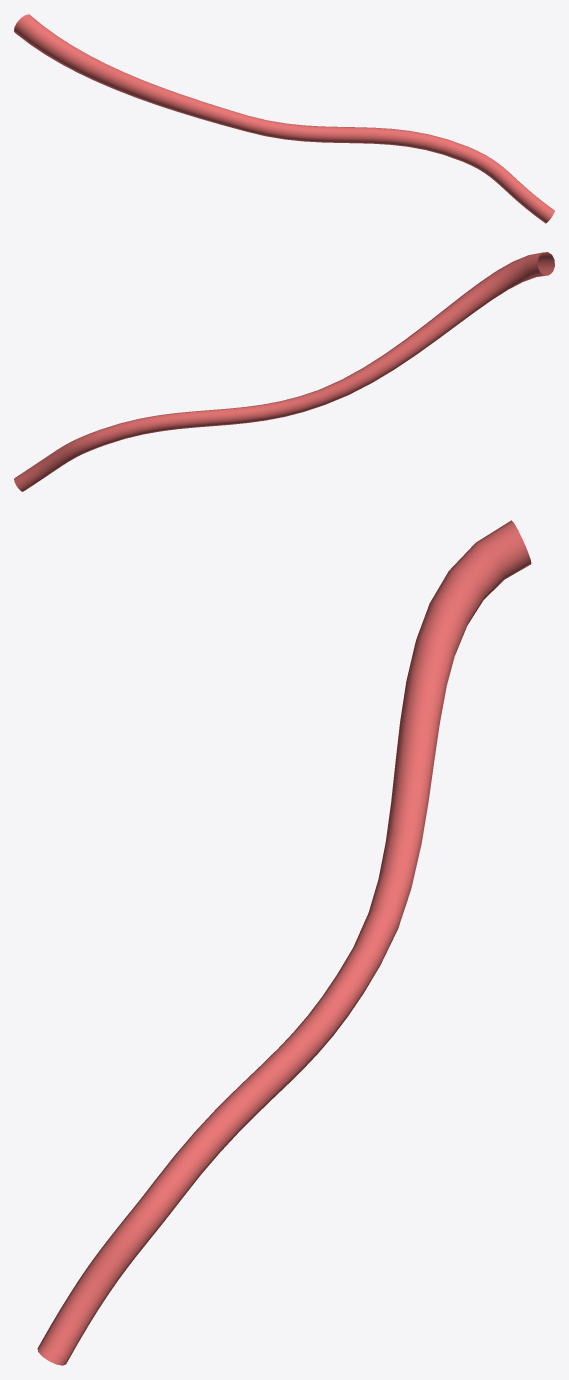
File: Lateral_plantar_artery.l_BezierCurve.183.glb
3 views of the same model, one above another, from view 1: azimuth 30°, elevation 25°; view 2: azimuth 210°, elevation 25°; view 3: azimuth 270°, elevation 25° (orthographic). The views are drawn at different scales.
Visible parts, largest first — view 1: Lateral_plantar_artery.l_BezierCurve.183; view 2: Lateral_plantar_artery.l_BezierCurve.183; view 3: Lateral_plantar_artery.l_BezierCurve.183.
Part boxes in pixels (x1=…): Lateral_plantar_artery.l_BezierCurve.183: x1=14, y1=14, x2=554, y2=223; Lateral_plantar_artery.l_BezierCurve.183: x1=14, y1=252, x2=554, y2=491; Lateral_plantar_artery.l_BezierCurve.183: x1=37, y1=520, x2=531, y2=1365.
Bounding box in the file's own units: 0.0407 × 0.0204 × 0.0205.
